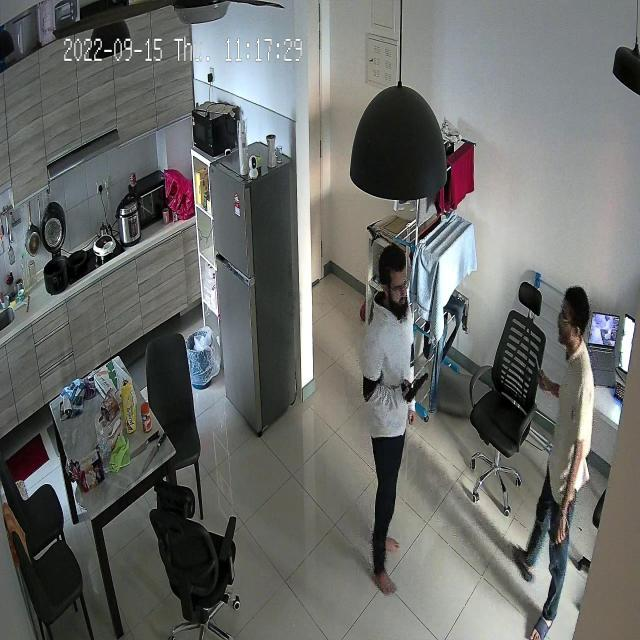Gun: (398, 364, 435, 422)
Knife: (523, 352, 559, 403)
